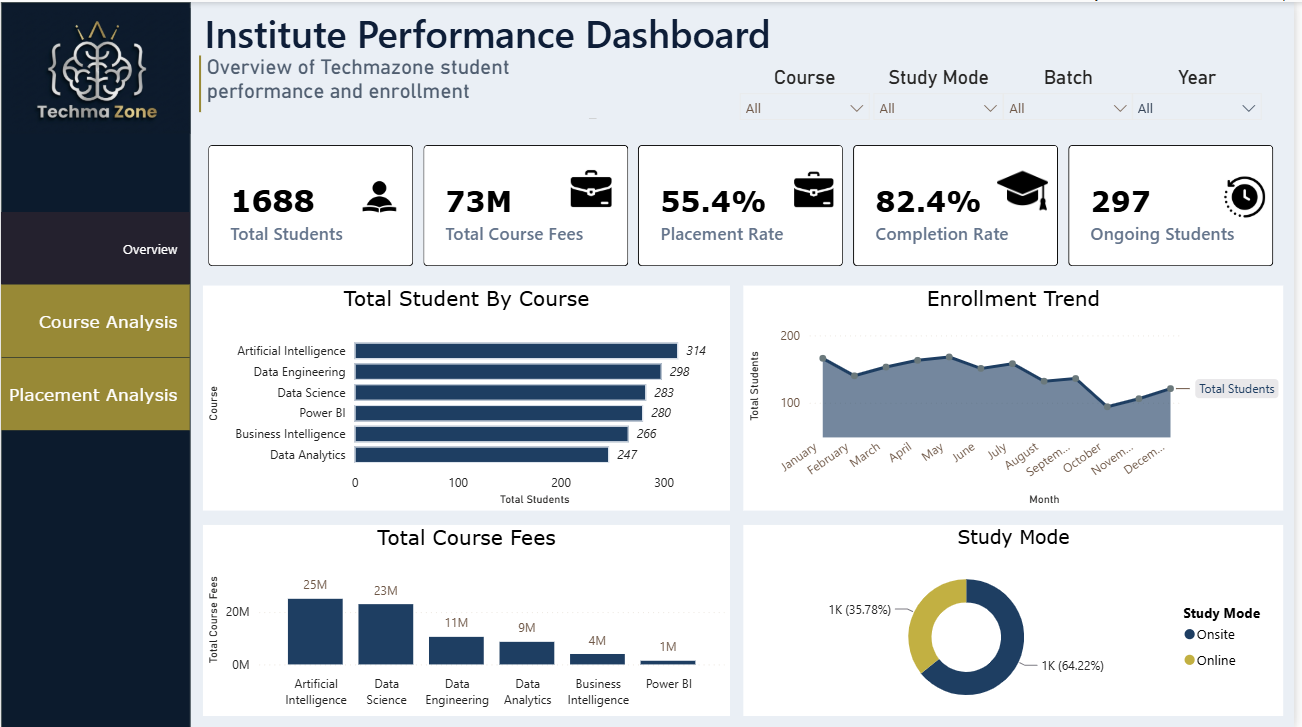

What the dashboard file says about the page in this screenshot:
{"tool":"powerbi","page":{"name":"Overview","canvas":[1280,720],"ordinal":0},"visuals":[{"type":"shape","box":[0,0,188,720],"z":0},{"type":"cardVisual","fields":{"Data":["Techmazone.Total Students","Techmazone.Total Course Fees","Techmazone.Placement Rate","Techmazone.Completion Rate","Techmazone.Ongoing Students"]},"box":[199.5,135.9,1069.9,130.1],"z":1000},{"type":"slicer","title":"Course","fields":{"Values":["Techmazone.Course"]},"box":[721.4,63.6,148.3,74.4],"z":2000},{"type":"textbox","box":[161.9,0,611.6,82.4],"z":3000},{"type":"textbox","title":"Overview of Techmazone student performance and enrollment","box":[199.1,53.5,396.1,68],"z":4000},{"type":"pageNavigator","box":[0,208.2,188,218.3],"z":5000},{"type":"clusteredBarChart","title":"Total Student By Course","fields":{"Category":["Techmazone.Course"],"Y":["Techmazone.Total Students"]},"box":[199.5,280.5,521.9,222.7],"z":6000},{"type":"clusteredColumnChart","title":"Total Course Fees ","fields":{"Category":["Techmazone.Course"],"Y":["Techmazone.Total Course Fees"]},"box":[199.5,517.6,521.9,189.4],"z":7000},{"type":"donutChart","title":"Study Mode","fields":{"Category":["Techmazone.Study Mode"],"Y":["Techmazone.Total Students"]},"box":[734.5,517.6,534.9,189.4],"z":8000},{"type":"lineChart","title":"Enrollment Trend","fields":{"Category":["Techmazone.Enrollment_Date.Variation.Date Hierarchy.Month"],"Y":["Techmazone.Total Students"]},"box":[734.5,280.5,534.9,222.7],"z":9000},{"type":"slicer","title":"Study Mode","fields":{"Values":["Techmazone.Study Mode"]},"box":[854.5,63.6,148.3,74.4],"z":10000},{"type":"slicer","title":"Batch","fields":{"Values":["Techmazone.Batch"]},"box":[983.1,63.6,148.3,74.4],"z":11000},{"type":"slicer","title":"Year","fields":{"Values":["Techmazone.Year"]},"box":[1110.4,63.6,148.3,74.4],"z":12000},{"type":"image","box":[1.3,0,186.5,135.9],"z":13000},{"type":"shape","box":[176.4,53.5,41.9,56.4],"z":14000},{"type":"image","box":[352.8,167.7,44.8,50.6],"z":15000},{"type":"image","box":[563.9,154.7,40,60],"z":16000},{"type":"image","box":[785.1,154.7,39,60.7],"z":17000},{"type":"image","box":[983.1,125.8,57.8,121.4],"z":18000},{"type":"image","box":[1204.3,172,54.9,41.9],"z":19000}]}

Visuals, with their boxes in screenshot pixels (x1, y1, x2, y2), scaled from the page's 1280x720 canvas onto the 1302x727 screenshot:
shape: [0, 0, 191, 726]
cardVisual - Techmazone.Total Students x Techmazone.Total Course Fees: [203, 137, 1291, 269]
"Course" slicer: [734, 64, 885, 139]
textbox: [165, 0, 787, 83]
"Overview of Techmazone student performance and enrollment" textbox: [203, 54, 605, 123]
pageNavigator: [0, 210, 191, 431]
"Total Student By Course" clusteredBarChart: [203, 283, 734, 508]
"Total Course Fees " clusteredColumnChart: [203, 523, 734, 714]
"Study Mode" donutChart: [747, 523, 1291, 714]
"Enrollment Trend" lineChart: [747, 283, 1291, 508]
"Study Mode" slicer: [869, 64, 1020, 139]
"Batch" slicer: [1000, 64, 1151, 139]
"Year" slicer: [1129, 64, 1280, 139]
image: [1, 0, 191, 137]
shape: [179, 54, 222, 111]
image: [359, 169, 404, 220]
image: [574, 156, 614, 217]
image: [799, 156, 838, 217]
image: [1000, 127, 1059, 250]
image: [1225, 174, 1281, 216]
